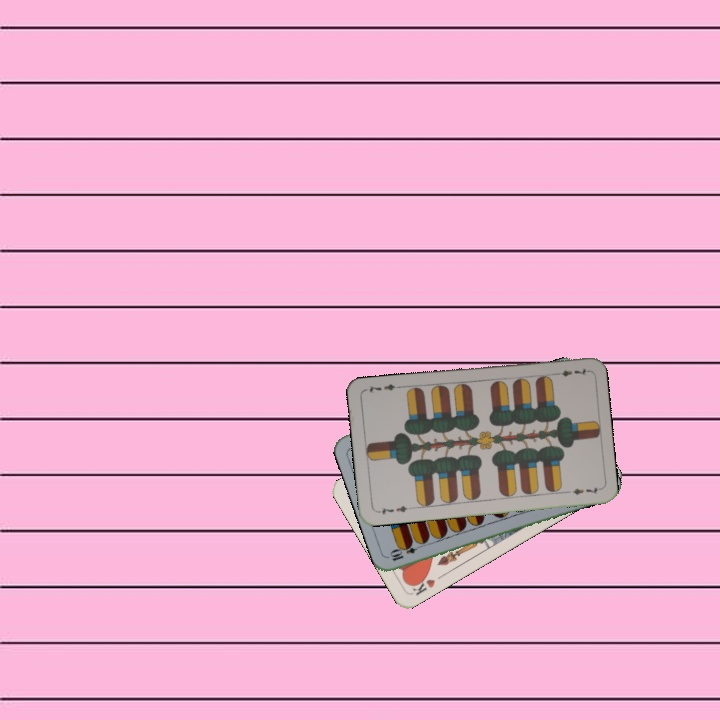E10: (386, 539, 426, 564)
E7: (373, 502, 414, 517), (549, 364, 590, 379)
HK: (406, 571, 438, 598)
